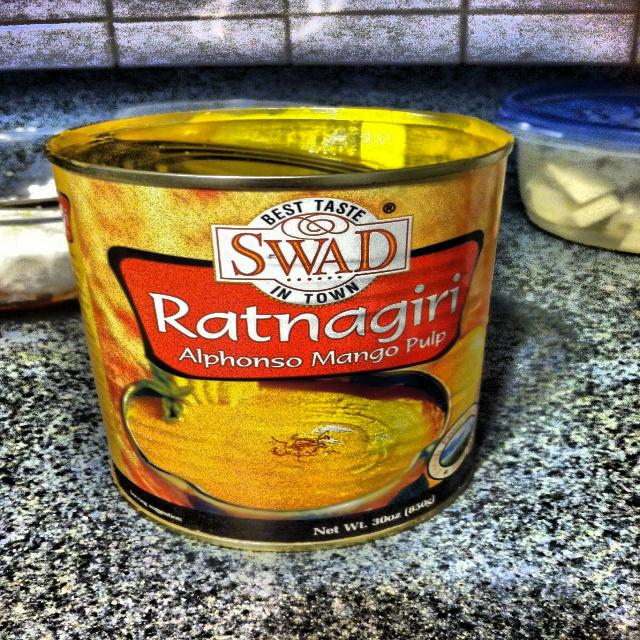Cans: (41, 88, 518, 561)
